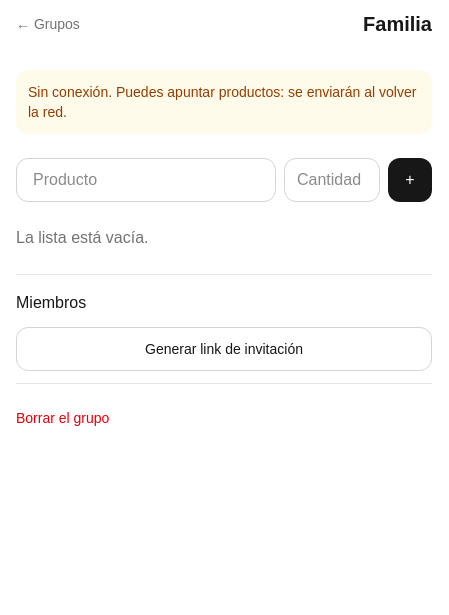
Test: Spec J · el enlace de invitación se comparte › j14: si copiar falla y compartir no está, el enlace sale como texto seleccionable
Click the button with test id "create-invite" at coordinates (224, 349), box [16,327,432,371]
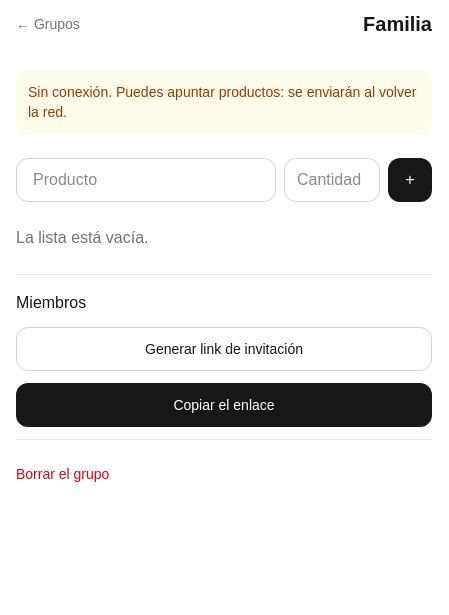
Click the button with test id "copy-invite" at coordinates (224, 405), box [16,383,432,427]
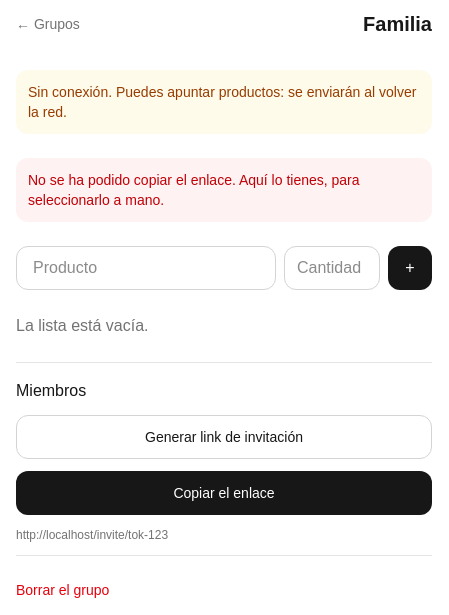
expect the message with test id "notice" reads "No se ha podido copiar el enlace. Aquí lo tienes, para seleccionarlo a mano.": met, box [28,172,360,208]
